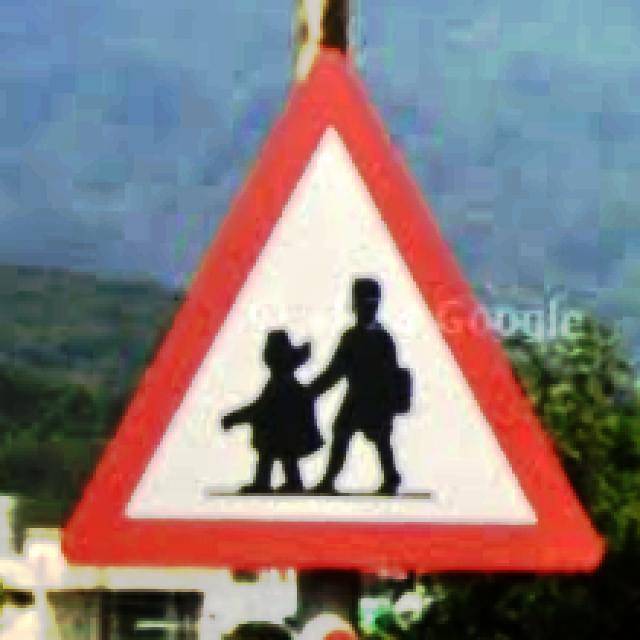childrencross: (61, 60, 605, 572)
